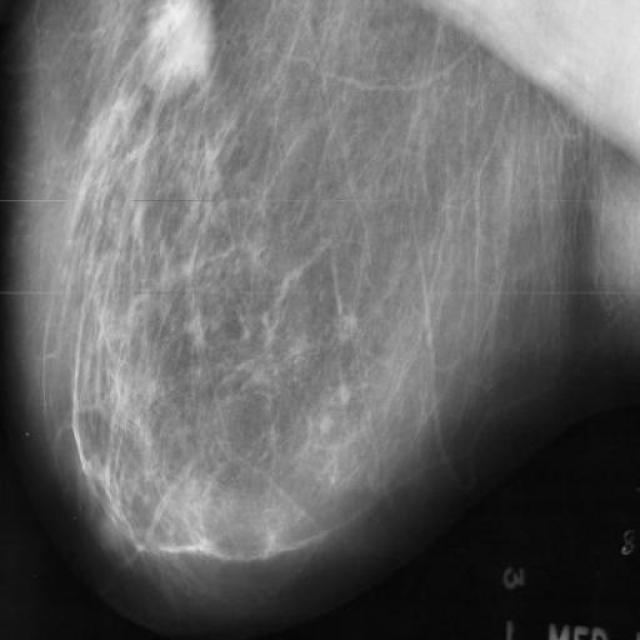cancer: (126, 0, 226, 106)
